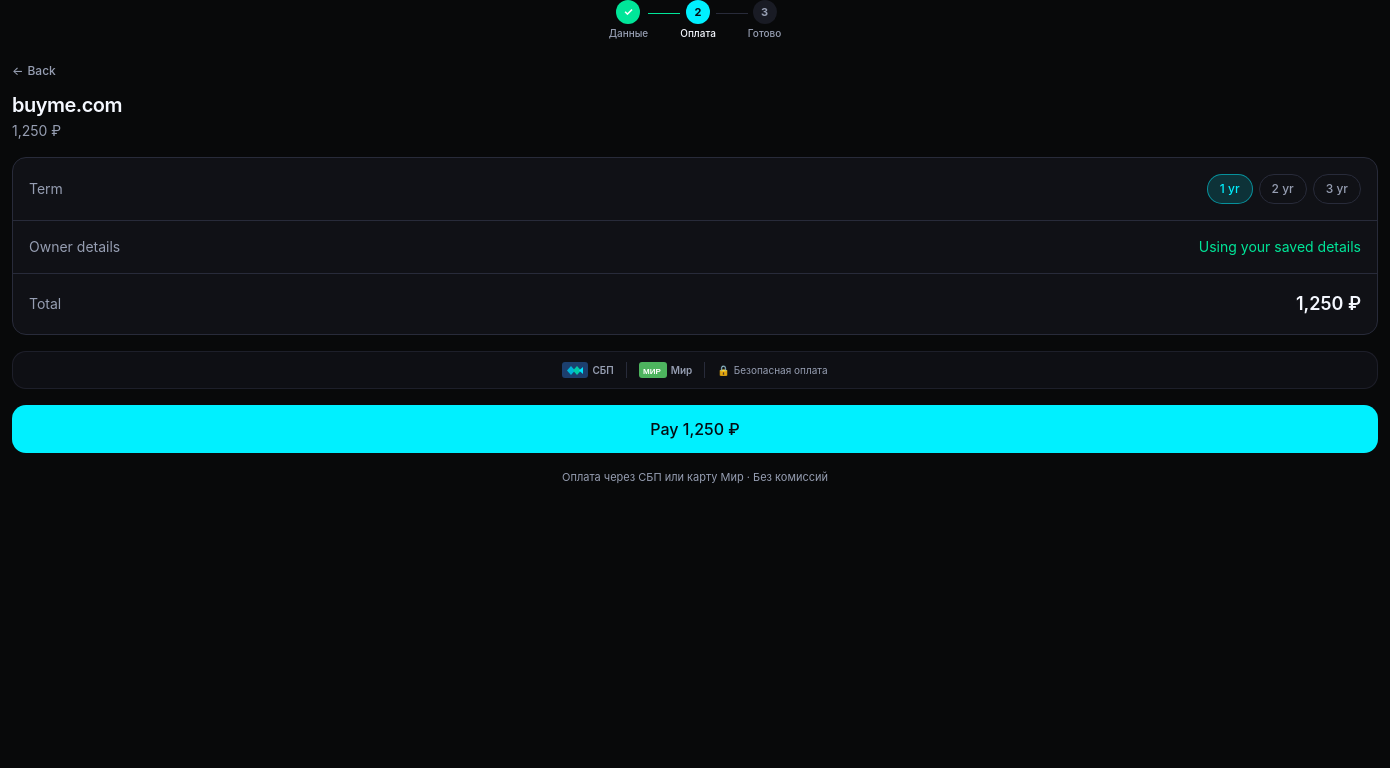
Test case: CheckoutScreen payment › tells the user the domain was just taken on a 409
The width and height of the screenshot is (1390, 768).
Expected: the text "Using your saved details" is shown, [1199,237,1361,257]
Click the button "Pay 1,250 ₽" at (695, 429), box [12,405,1378,453]
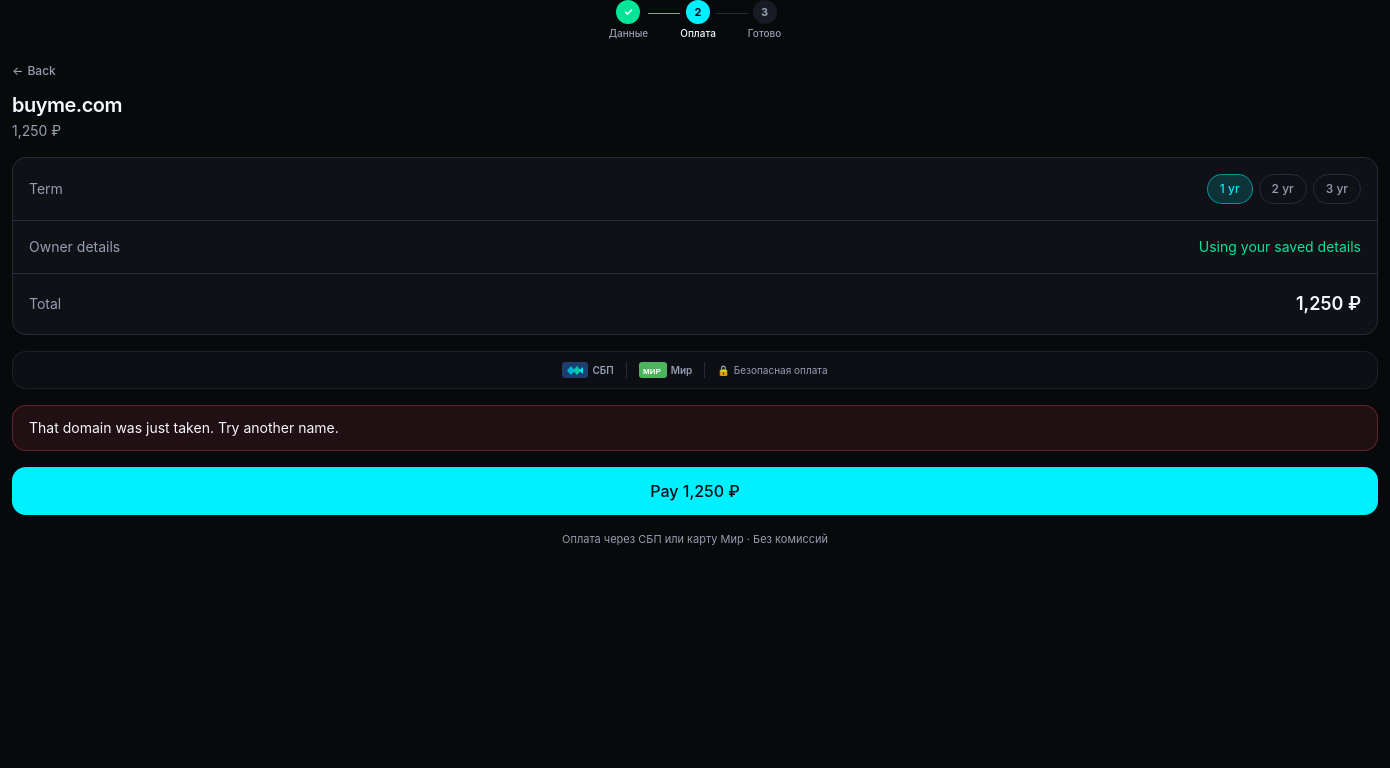
Expected: the message shows "was just taken", [29,419,339,436]
